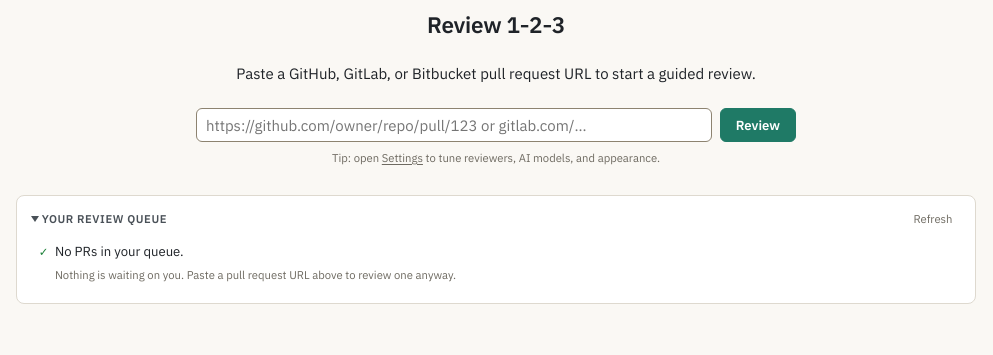
Landing › EC-01i: non-PR URL shows specific message
Type "https://github.com/just-an-owner" into the field. click: (454, 125)
box: [196, 108, 712, 142]
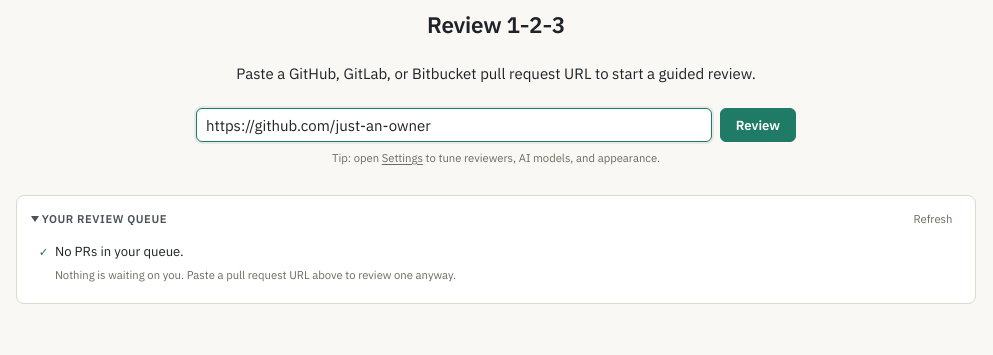
Click the button "Review". click: (758, 125)
box: [720, 108, 796, 142]
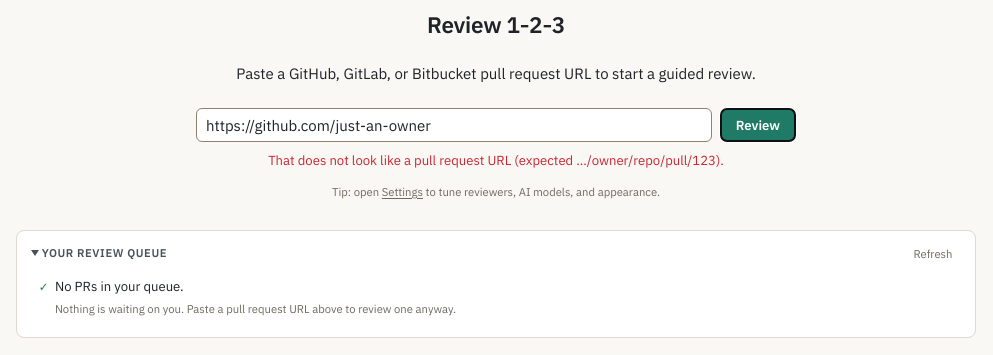
Expected: the message shows "does not look like a pull request URL", [268, 152, 724, 169]
